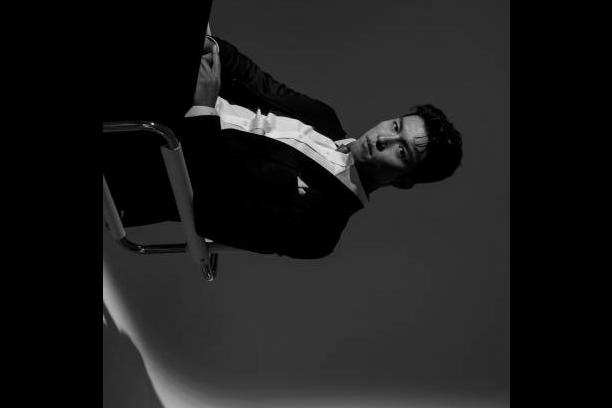Non_Gorille: (108, 0, 510, 315)
